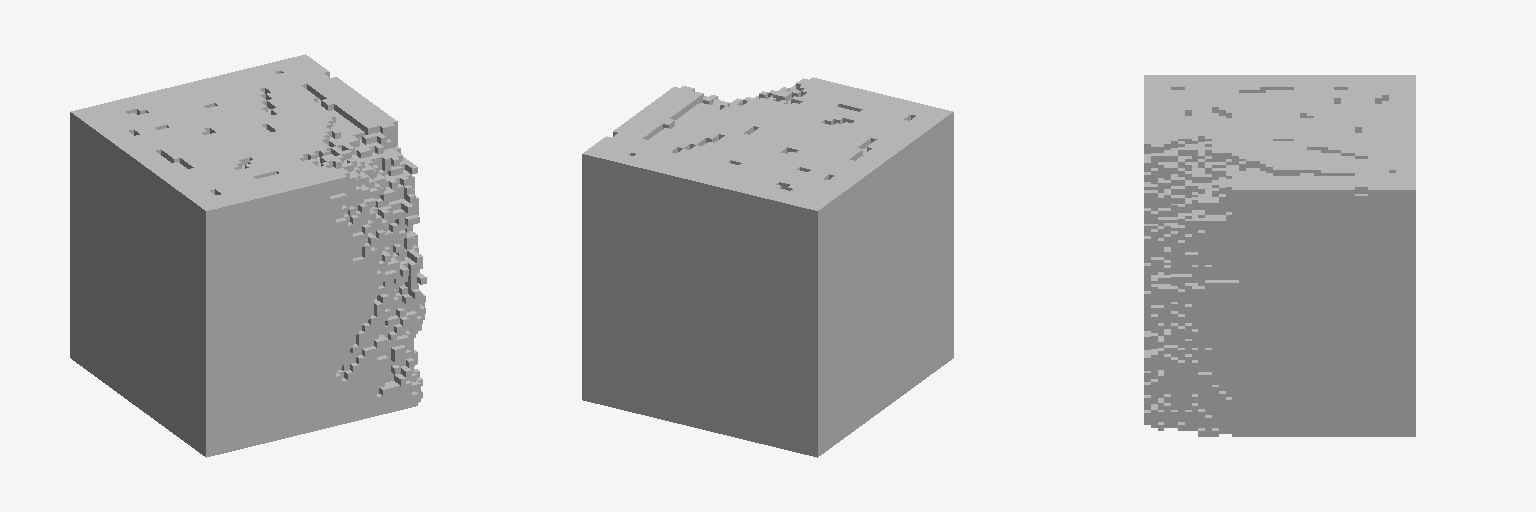
The model's file is Dirt 1 - Corner.obj.
3 views of the same model, side by side, from view 1: azimuth 30°, elevation 25°; view 2: azimuth 150°, elevation 25°; view 3: azimuth 270°, elevation 25° (orthographic).
Parts seen in each view (by area): view 1: object 1; view 2: object 1; view 3: object 1.
Boxes of the visible parts, <box> form: object 1: <box>70,54,426,457</box>; object 1: <box>582,77,953,457</box>; object 1: <box>1144,75,1415,436</box>.
Bounding box in the file's own units: 4 × 4 × 4.